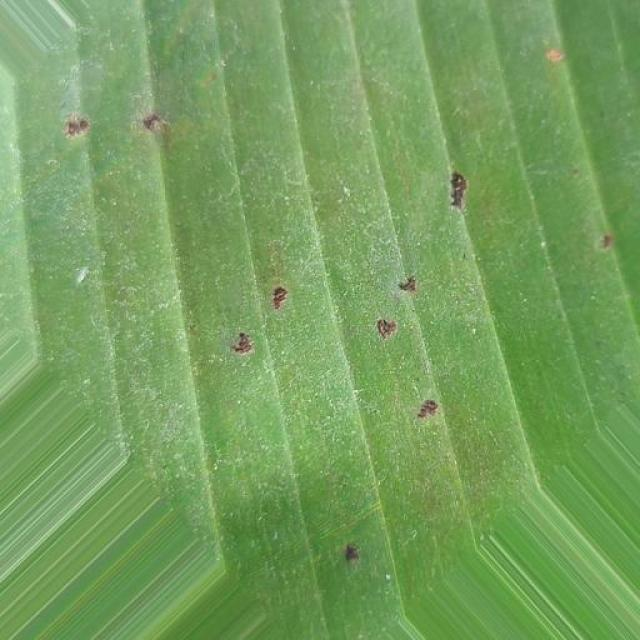Black_rot: (208, 256, 302, 378), (47, 92, 201, 155), (397, 163, 514, 217), (366, 260, 422, 356), (390, 383, 454, 431), (330, 525, 372, 598), (581, 208, 619, 276)
